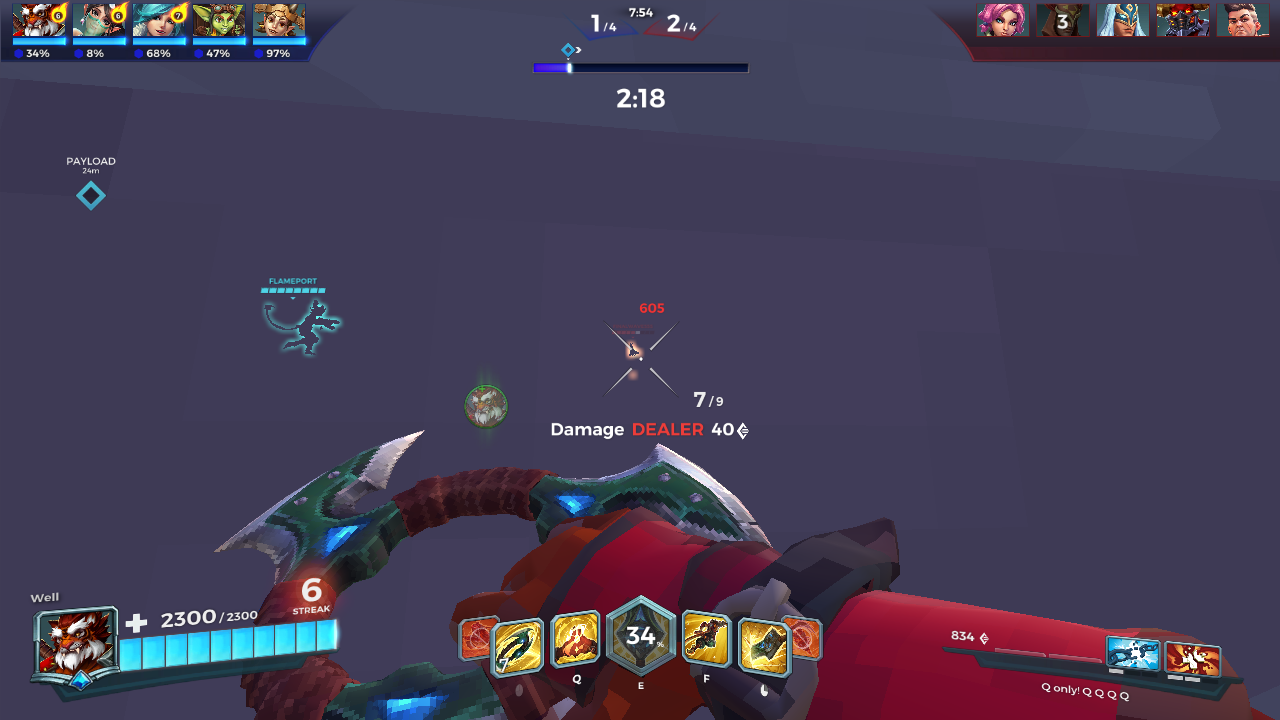model: (622, 338, 639, 358)
